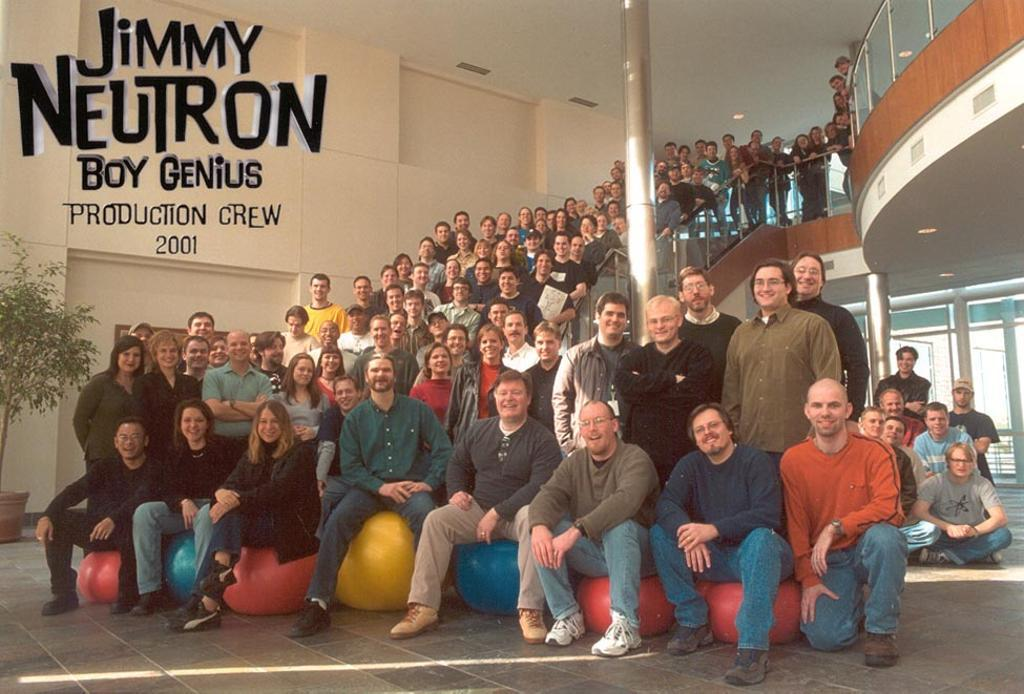face: (808, 388, 846, 437), (692, 408, 728, 457), (580, 410, 613, 454), (754, 268, 785, 308), (648, 304, 679, 343), (792, 257, 822, 296), (497, 381, 527, 418), (117, 424, 145, 460), (682, 275, 709, 312), (601, 302, 628, 338), (181, 407, 207, 442), (368, 360, 393, 393), (258, 410, 282, 444), (335, 380, 359, 411), (187, 340, 210, 370), (157, 340, 180, 369), (950, 449, 971, 479), (118, 347, 141, 374), (131, 328, 154, 355), (536, 332, 557, 361), (265, 337, 285, 367), (292, 359, 314, 386), (228, 335, 250, 362), (927, 409, 949, 436), (482, 331, 502, 360), (865, 412, 886, 439), (430, 347, 451, 373), (191, 318, 213, 342), (883, 393, 904, 418), (210, 340, 230, 366), (448, 330, 467, 357), (506, 317, 525, 344), (884, 421, 904, 446), (373, 318, 390, 347), (248, 336, 266, 362), (491, 305, 510, 328), (347, 311, 366, 333), (321, 325, 339, 348), (390, 315, 406, 340), (322, 352, 341, 373), (897, 352, 916, 373), (499, 272, 517, 294), (387, 289, 404, 312), (955, 386, 972, 408), (288, 315, 304, 338), (406, 297, 423, 318), (312, 279, 328, 301), (475, 262, 491, 284), (356, 279, 371, 301), (537, 254, 552, 276), (555, 235, 570, 257), (454, 283, 470, 303), (431, 318, 447, 337), (414, 267, 429, 286), (383, 269, 398, 287), (496, 242, 511, 260), (481, 219, 495, 238), (398, 258, 412, 276), (447, 261, 460, 280), (572, 237, 585, 256), (581, 219, 594, 238), (437, 226, 450, 244), (457, 233, 470, 251), (477, 241, 490, 259), (526, 234, 540, 250), (507, 230, 520, 247), (831, 79, 846, 93), (457, 215, 470, 231), (498, 214, 511, 230), (421, 241, 433, 258), (556, 211, 568, 228), (658, 184, 671, 199), (613, 220, 625, 235), (837, 61, 849, 76), (521, 209, 532, 225), (597, 216, 608, 231), (666, 146, 677, 161), (835, 115, 848, 127), (595, 189, 606, 203), (612, 184, 623, 198), (750, 143, 761, 157), (835, 95, 846, 109), (548, 214, 557, 230), (798, 136, 809, 149), (827, 126, 838, 139), (577, 203, 587, 217), (609, 204, 619, 218), (657, 162, 667, 176), (671, 167, 681, 181), (696, 143, 706, 157), (537, 210, 547, 223), (537, 221, 547, 234), (682, 164, 692, 177), (694, 171, 704, 184), (724, 137, 734, 150), (773, 138, 783, 151), (707, 146, 716, 160), (730, 147, 739, 161), (567, 201, 577, 213), (612, 169, 622, 181), (680, 148, 689, 161), (588, 211, 597, 223), (812, 130, 821, 142), (603, 183, 612, 194), (753, 132, 762, 143)
